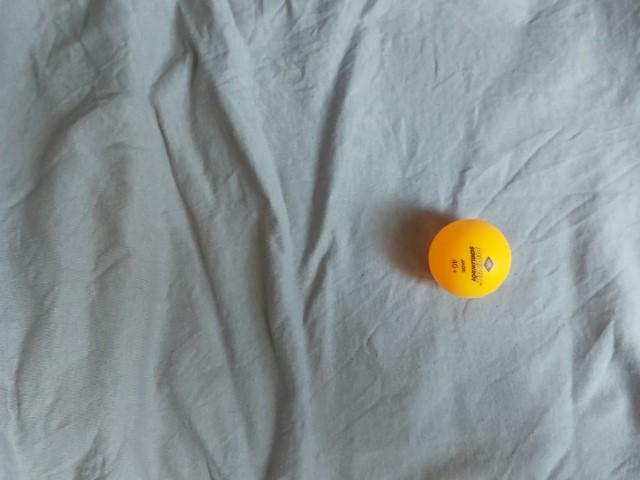oball: (424, 213, 520, 306)
